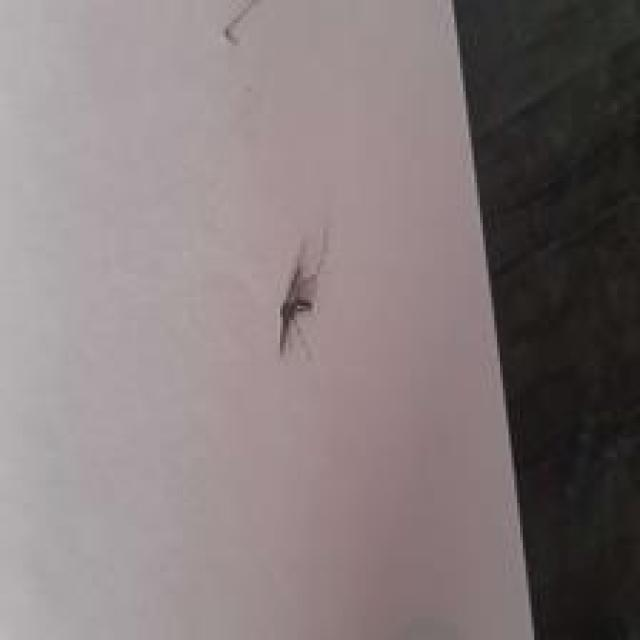Aedes albopictus: (276, 226, 330, 357)
